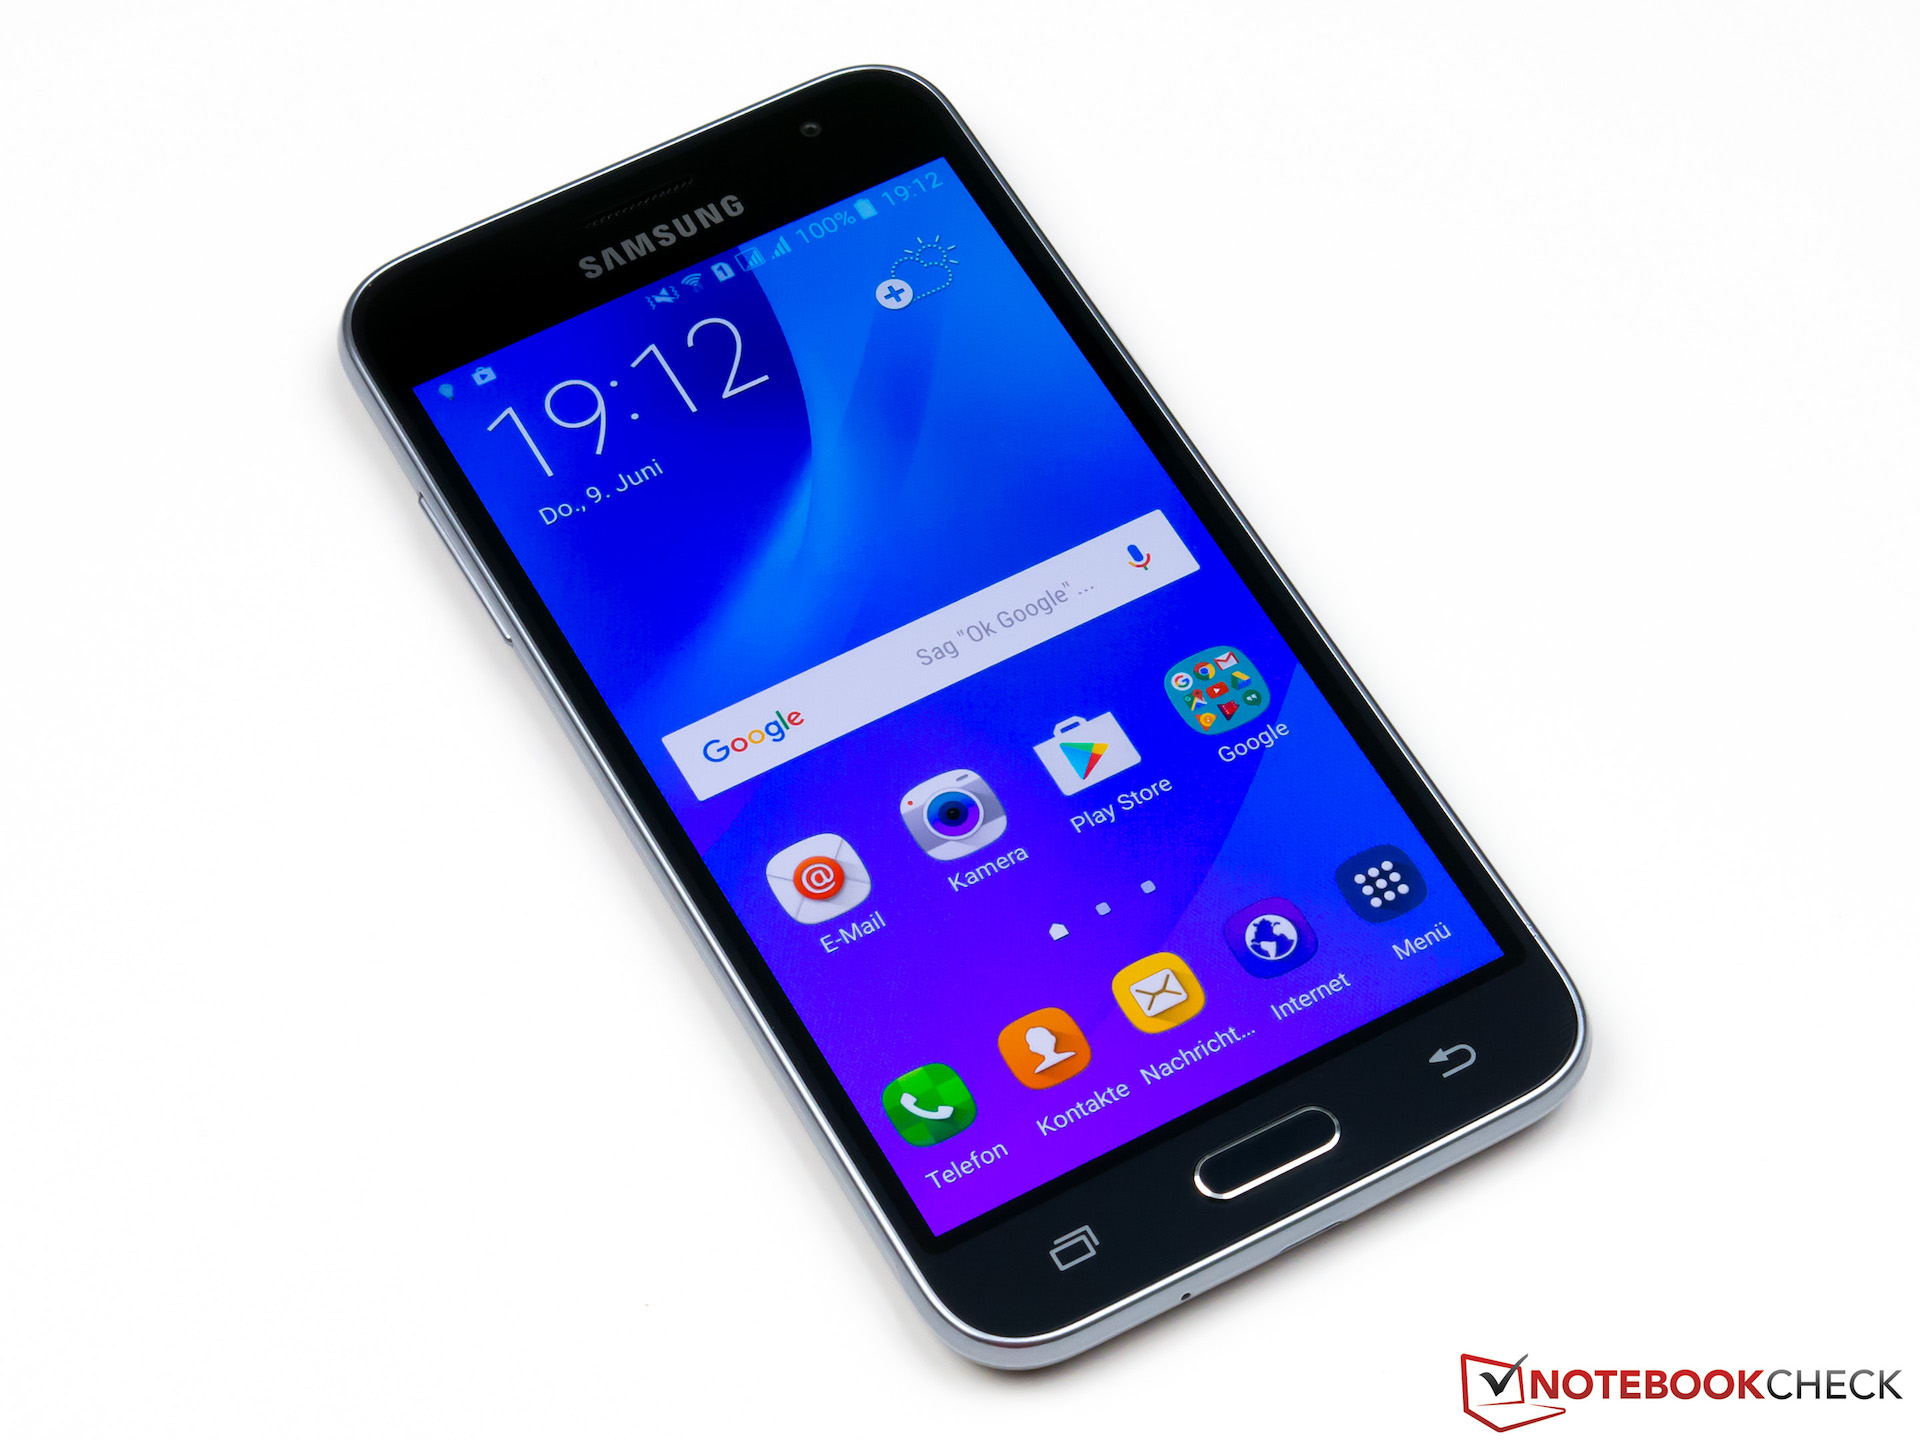smartphone: (339, 62, 1596, 1376)
